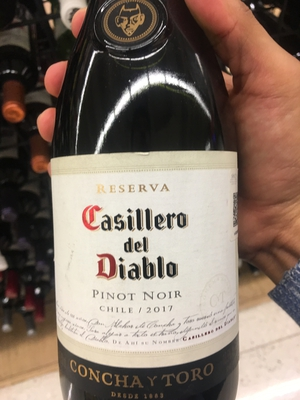casillero del diablo pinot noir: (32, 28, 267, 394)
